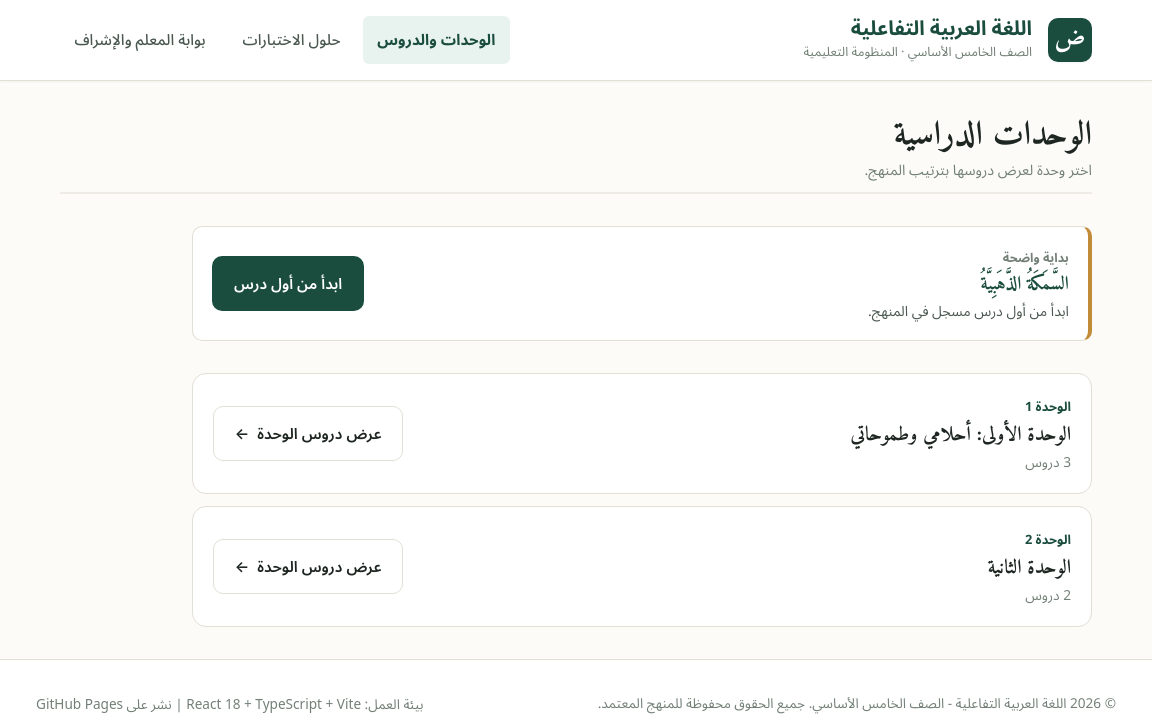
Test: Audit fix 4 — solutions gateway (st12) with honest limits › blocks direct navigation to the solutions hub without the password
This screenshot has width=1152, height=720.
Click the button "حلول الاختبارات": (291, 40) [228,16,355,64]
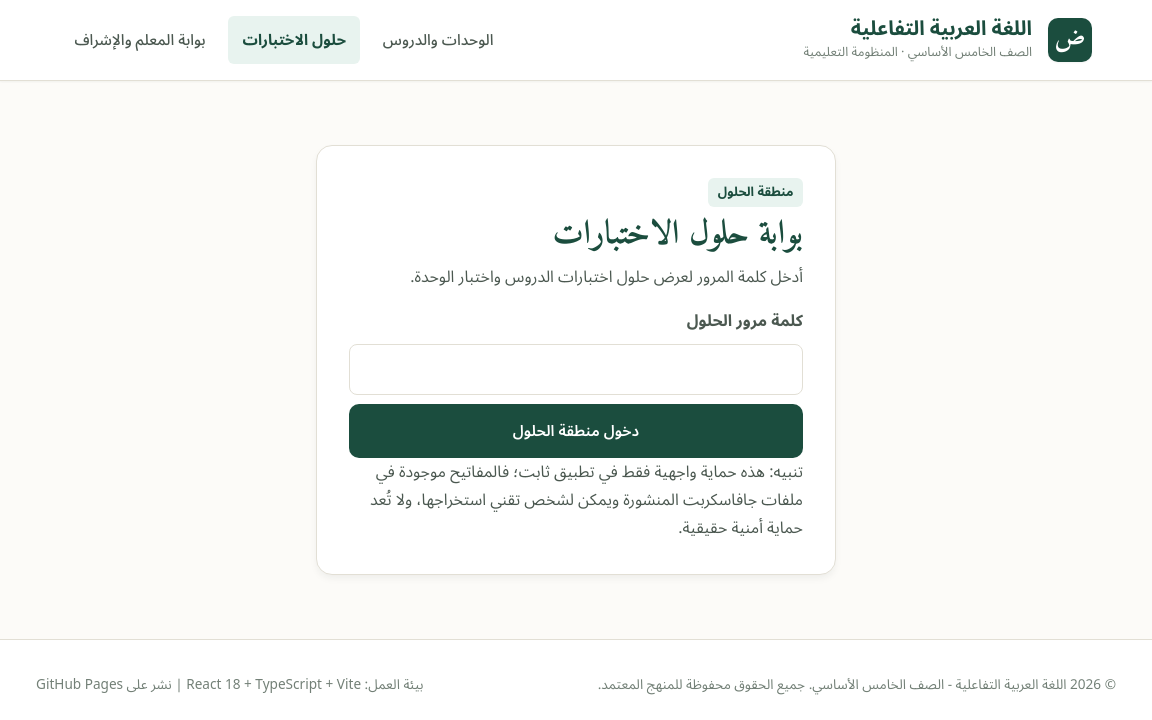
Check: the password field labelled "كلمة مرور الحلول" is shown, box [349,344,803,395]
